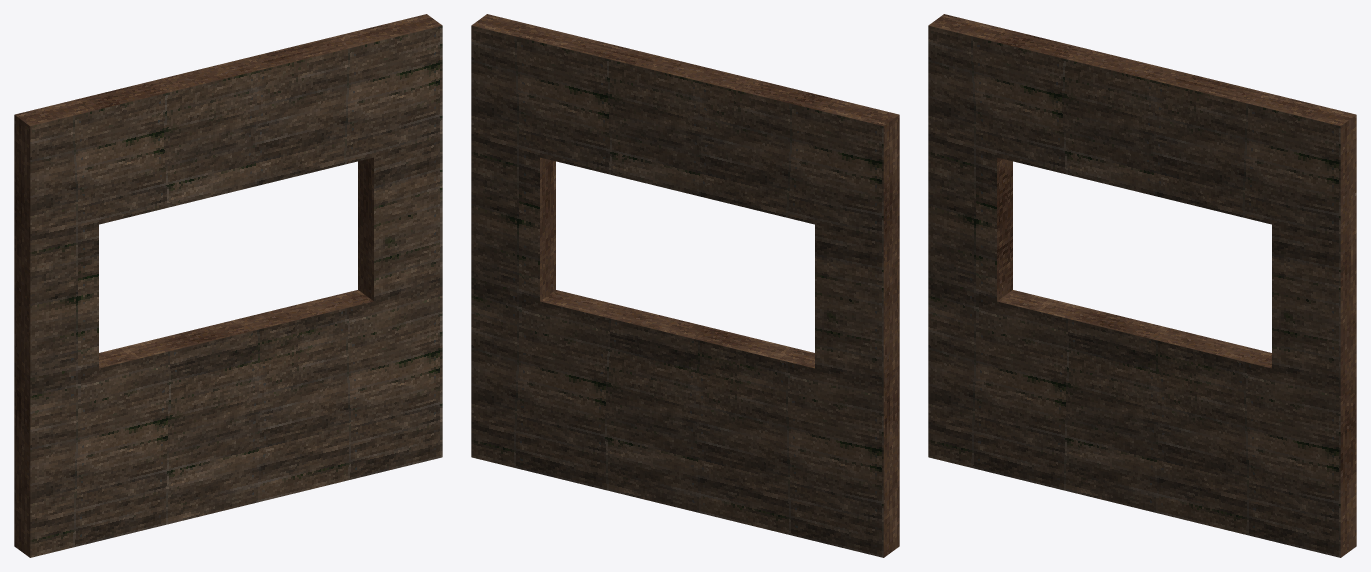
The model's file is window_small_double_frame.glb.
The picture shows the model from 3 angles, left to right: view 1: azimuth 30°, elevation 25°; view 2: azimuth 150°, elevation 25°; view 3: azimuth 330°, elevation 25°; orthographic projection.
Visible parts, largest first — view 1: window_small_double_frame2; view 2: window_small_double_frame2; view 3: window_small_double_frame2.
Part boxes in pixels (x1,y1,x2,y2): window_small_double_frame2: [14, 14, 442, 557]; window_small_double_frame2: [471, 14, 899, 557]; window_small_double_frame2: [928, 14, 1356, 557].
Size of the model in its own units: 3 by 3 by 0.2.
Materials: 1 (1 with a texture image).
